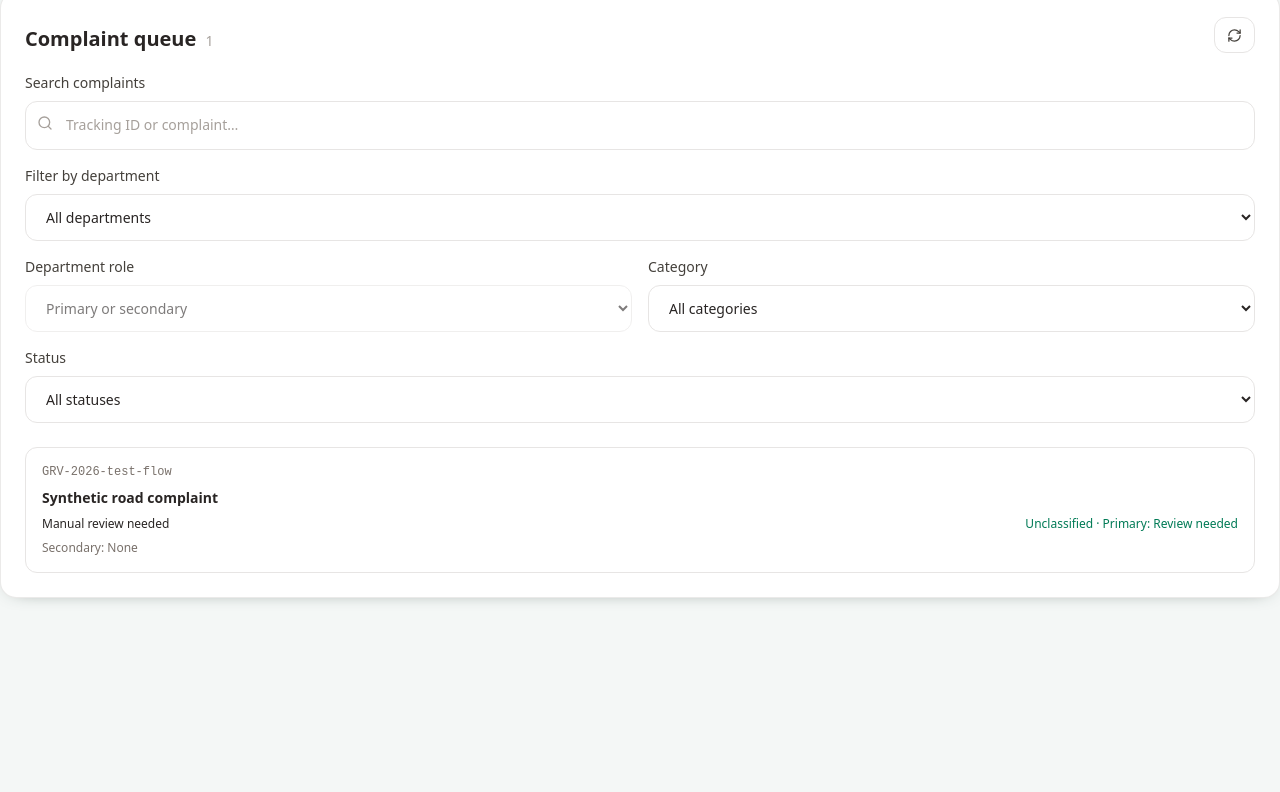
Test case: manual routing cannot silently accept a default department
The width and height of the screenshot is (1280, 792).
Click the button "GRV-2026-test-flow": [640, 510] box [25,447,1255,573]
(page scrolled)
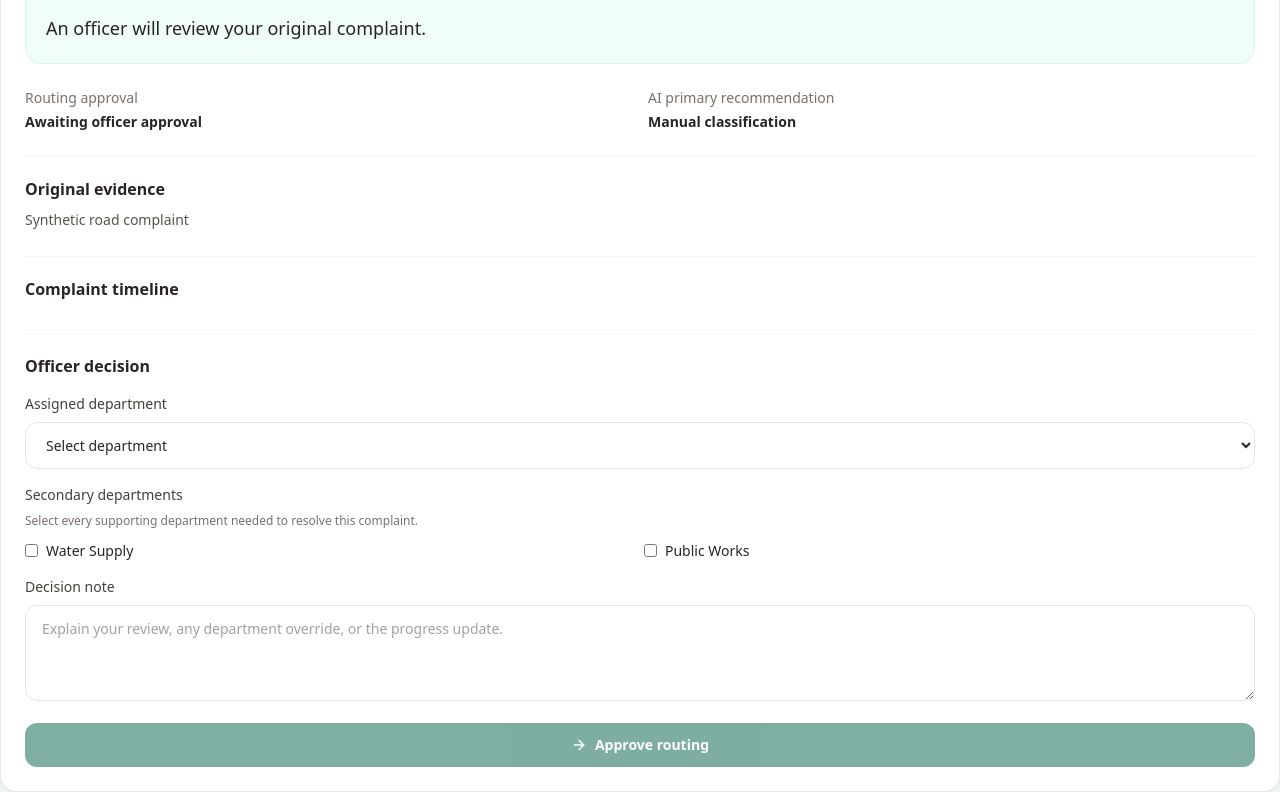
expect the dropdown labelled "Assigned department" shows "Select department": met, box [25,422,1255,469]
In the text box labelled "Decision note": [640, 653] box [25,605,1255,701], type "Reviewed the original road complaint."
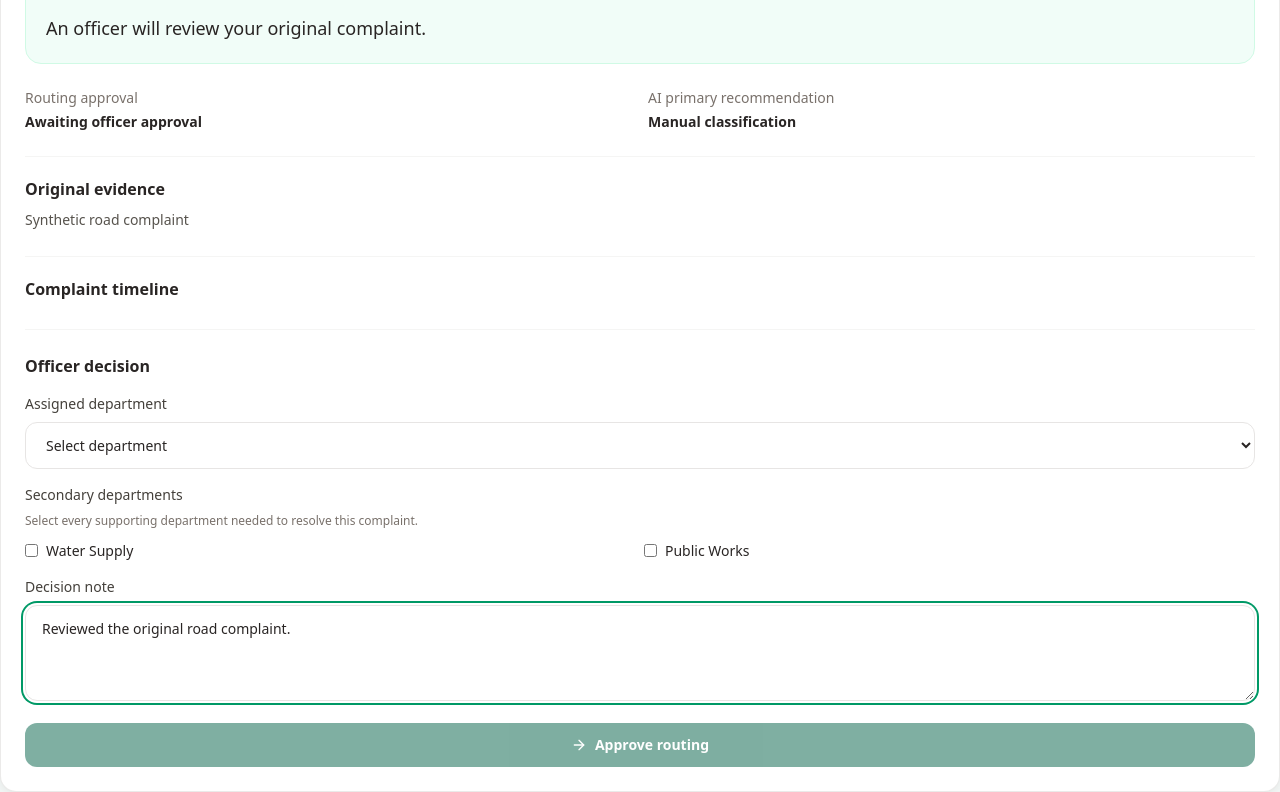
expect the button "Approve routing" is disabled: met, box [25,723,1255,767]
Select "Public Works" in the dropdown labelled "Assigned department": [640, 445] box [25,422,1255,469]
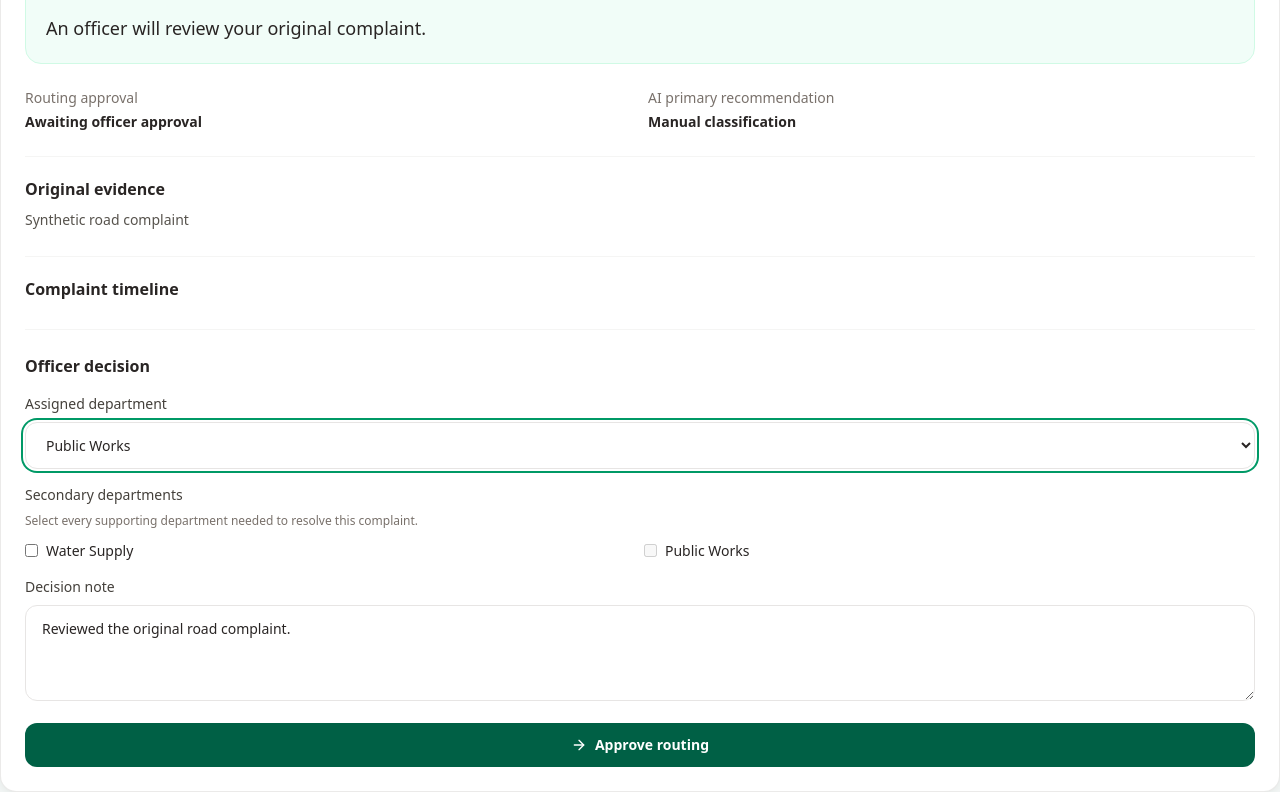
expect the button "Approve routing" is enabled: met, box [25,723,1255,767]
